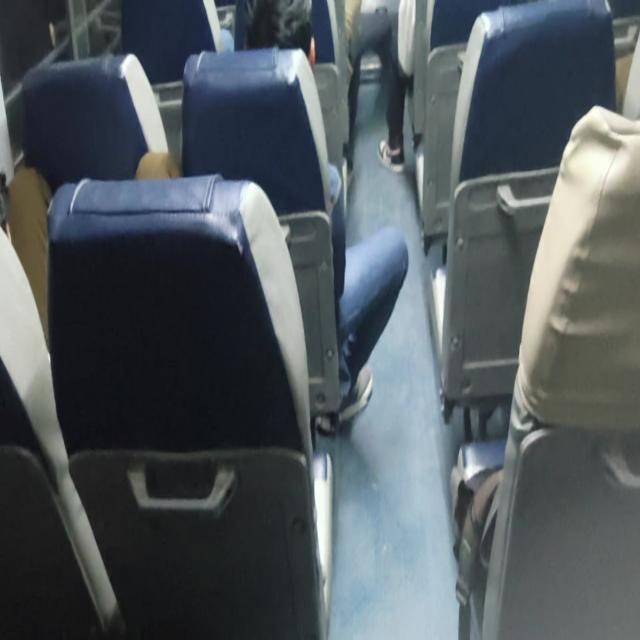person: (135, 1, 409, 434), (344, 0, 406, 174), (244, 0, 317, 68)
